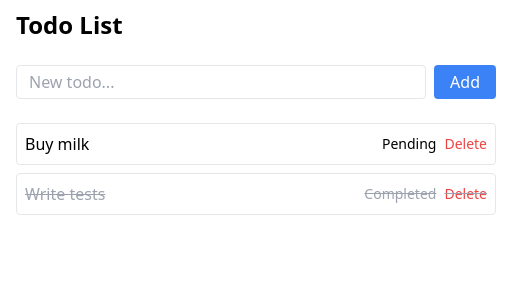
it: pages/index.vue › form submit › adds a new todo without a full page reload
Type "New todo" into the field with placeholder "New todo...".
click(221, 82); type("New todo")  # box [16,65,426,99]
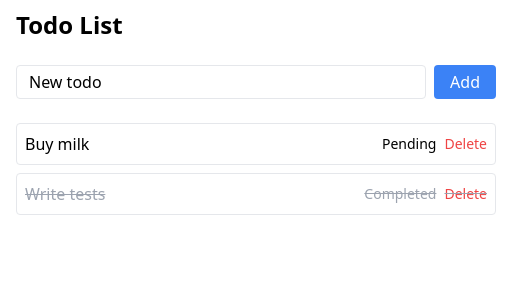
Submit the form, box [16,65,496,99]
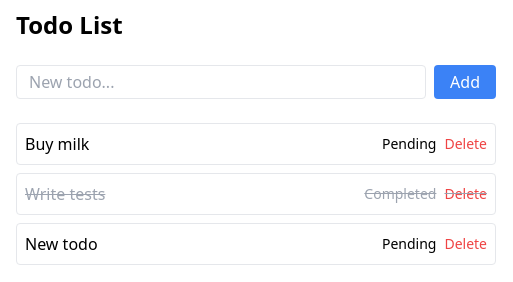
Expected: the text "New todo" is shown, [25,233,98,255]
